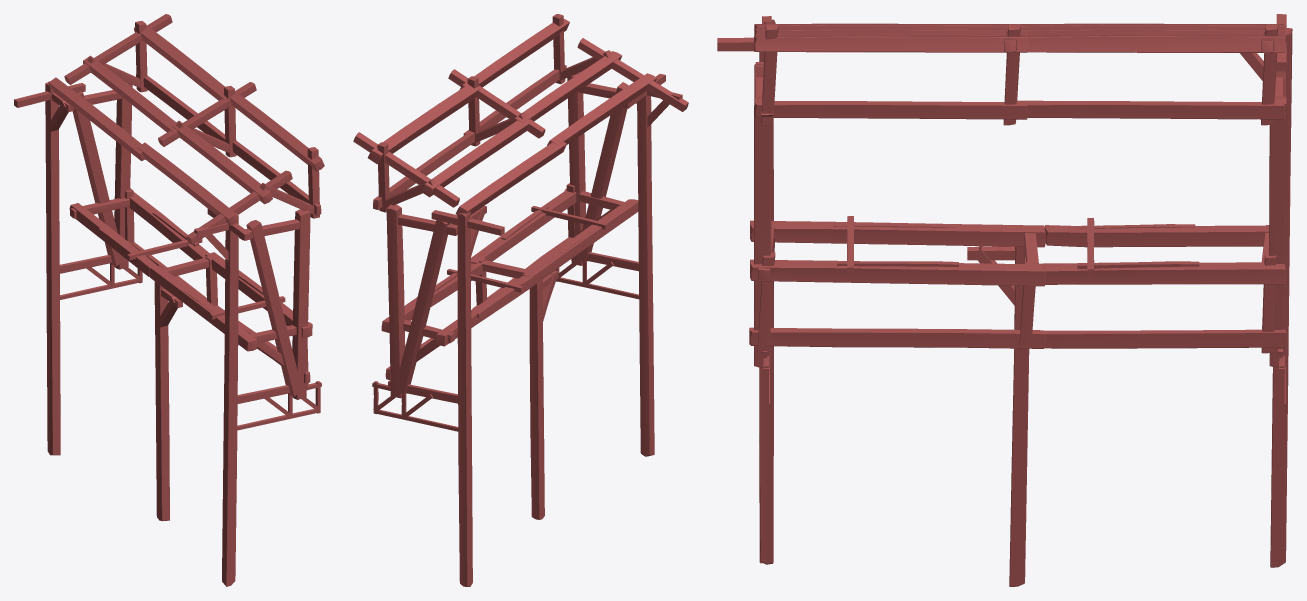
File: Beam_Structure_24A_Lod0.fbx
The picture shows the model from 3 angles, left to right: view 1: azimuth 30°, elevation 25°; view 2: azimuth 150°, elevation 25°; view 3: azimuth 270°, elevation 25°; orthographic projection. The views are drawn at different scales.
Parts seen in each view (by area): view 1: Beam_Structure_24A_Lod0; view 2: Beam_Structure_24A_Lod0; view 3: Beam_Structure_24A_Lod0.
Boxes of the visible parts, x1,y1,x2,y2 form: Beam_Structure_24A_Lod0: [14, 14, 324, 586]; Beam_Structure_24A_Lod0: [353, 14, 688, 586]; Beam_Structure_24A_Lod0: [717, 14, 1292, 586].
Bounding box in the file's own units: 280 × 723 × 620.
